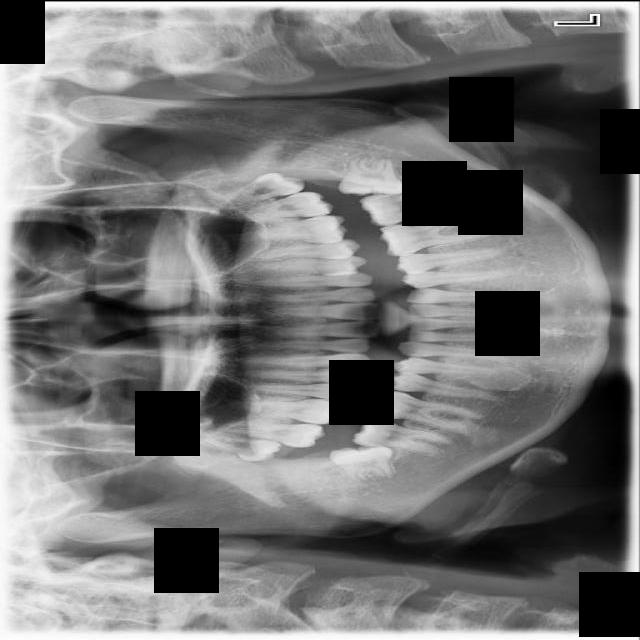3M ESPE Implant: (199, 432, 283, 464)
73: (572, 46, 586, 52)
BioHorizons Implant: (227, 189, 334, 224)
BioLife Implant: (211, 166, 307, 209)
Biomet 3i Implant: (337, 152, 409, 199)
Blue Sky Bio Implant: (358, 184, 465, 229)
Caries: (214, 417, 328, 449)
Implant: (350, 414, 458, 456)
Keystone Dental Implant: (328, 437, 397, 491)
